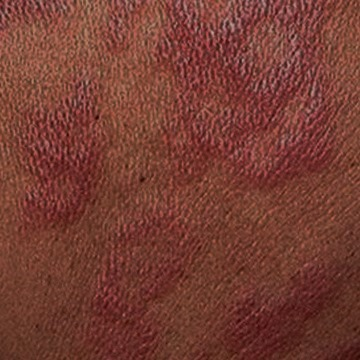Leprosy: (156, 0, 349, 191), (199, 243, 359, 359), (3, 84, 120, 238)
